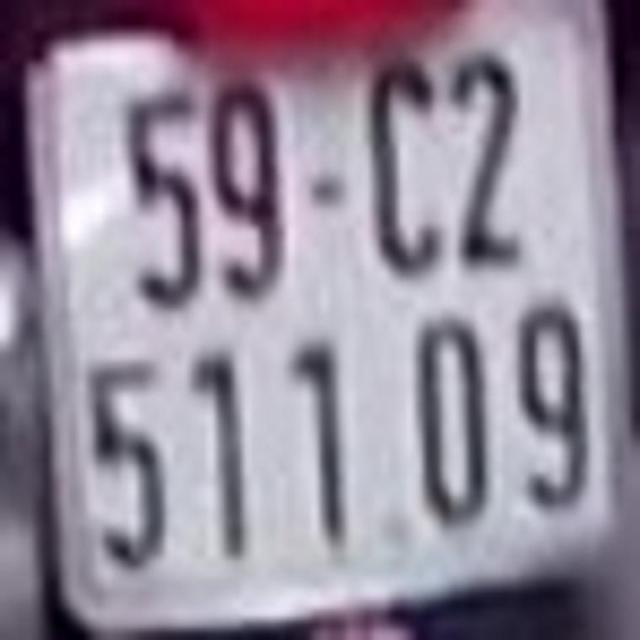0: (411, 310, 494, 532)
1: (286, 336, 365, 556), (186, 346, 250, 554)
2: (447, 42, 529, 273)
5: (74, 348, 168, 572), (123, 91, 200, 319)
9: (204, 79, 294, 312), (512, 286, 593, 516)
C: (368, 51, 444, 271)
